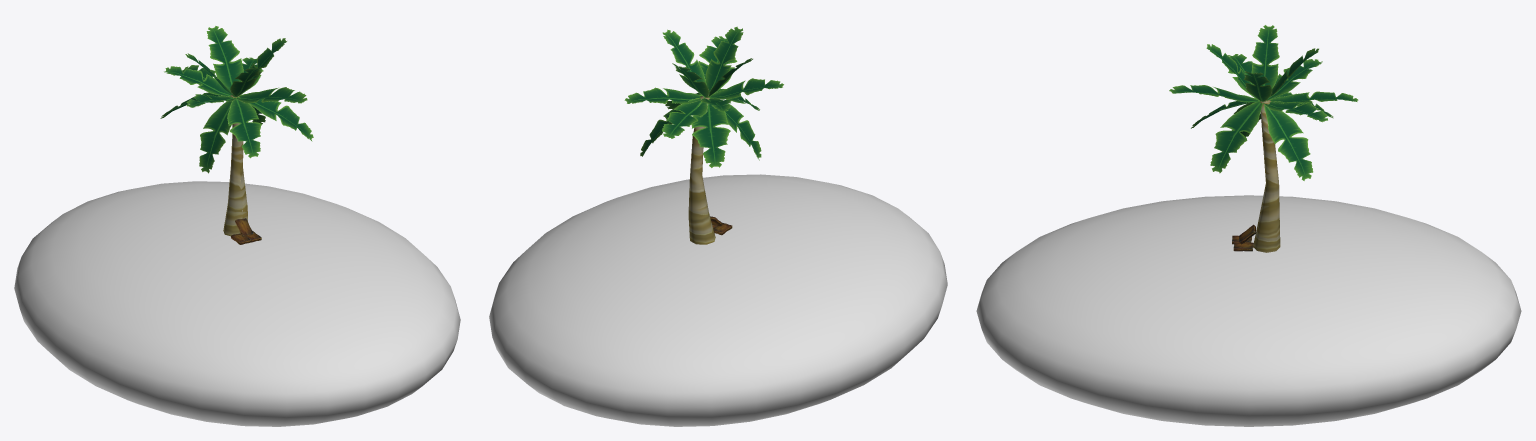
File: WOOLD.fbx
3 views of the same model, side by side, from view 1: azimuth 30°, elevation 25°; view 2: azimuth 150°, elevation 25°; view 3: azimuth 270°, elevation 25° (orthographic). The views are drawn at different scales.
Parts seen in each view (by area): view 1: Sphere, Cylinder.001, Cylinder.006, Cylinder.013, Cylinder.012, Cylinder.014, Cylinder.011, Cylinder.008, Cylinder.003, Cylinder.005; view 2: Sphere, Cylinder.001, Cylinder.016, Cylinder.003, Cylinder.017, Cylinder.009, Cylinder.005, Cylinder.010, Cylinder.012, Cylinder.006, Cylinder.008; view 3: Sphere, Cylinder.001, Cylinder.015, Cylinder.014, Cylinder.007, Cylinder.009, Cylinder.017, Cylinder.008, Cylinder.011, Cylinder.005.
Boxes of the visible parts, x1,y1,x2,y2 form: Sphere: (14,181,460,426); Cylinder.001: (223,95,247,236); Cylinder.006: (206,26,243,90); Cylinder.013: (227,97,261,158); Cylinder.012: (199,101,231,173); Cylinder.014: (237,95,313,141); Cylinder.011: (164,66,233,97); Cylinder.008: (236,87,307,103); Cylinder.003: (230,67,261,96); Cylinder.005: (237,38,286,96); Sphere: (489,174,947,426); Cylinder.001: (688,96,715,244); Cylinder.016: (691,97,730,167); Cylinder.003: (705,26,743,96); Cylinder.017: (662,97,707,138); Cylinder.009: (624,87,701,103); Cylinder.005: (662,29,706,97); Cylinder.010: (710,78,783,99); Cylinder.012: (720,100,761,160); Cylinder.006: (672,63,709,97); Cylinder.008: (698,36,737,96); Sphere: (976,195,1521,426); Cylinder.001: (1253,100,1280,252); Cylinder.015: (1264,105,1313,180); Cylinder.014: (1210,100,1263,173); Cylinder.007: (1251,25,1279,88); Cylinder.009: (1262,101,1327,122); Cylinder.017: (1269,91,1358,104); Cylinder.008: (1169,85,1258,102); Cylinder.011: (1266,59,1322,100); Cylinder.005: (1243,71,1272,101).
Bounding box in the file's own units: 3356 × 2842 × 4129.
